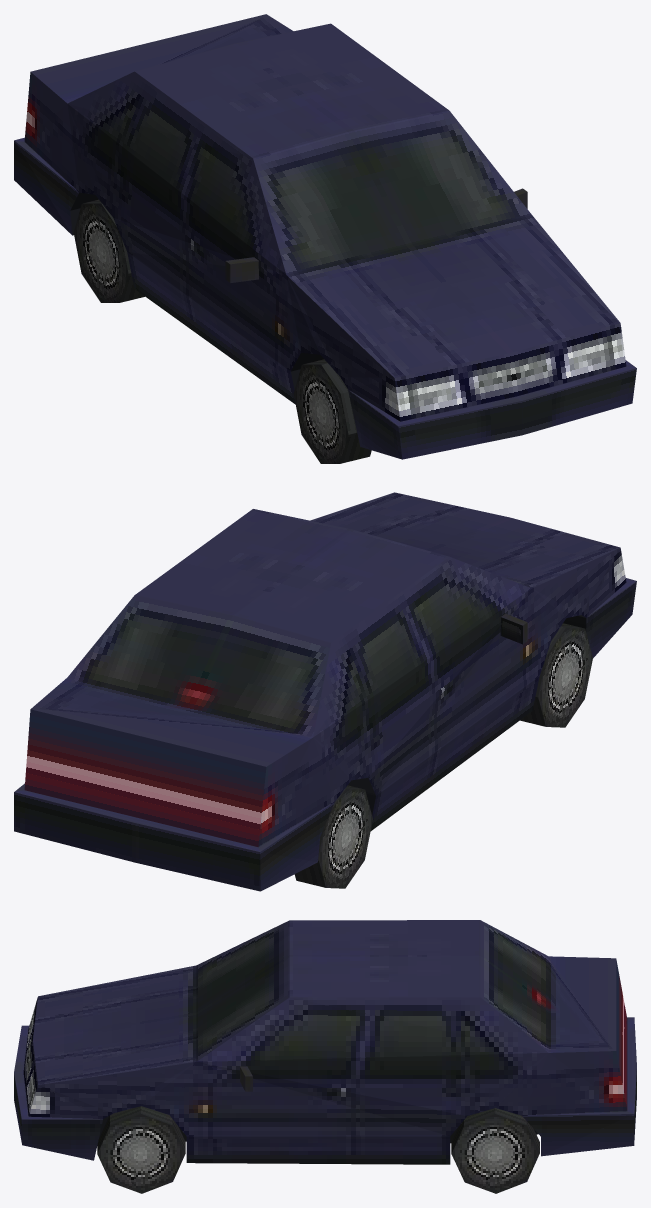
Rendered from car2.glb.
3 views of the same model, one above another, from view 1: azimuth 30°, elevation 25°; view 2: azimuth 150°, elevation 25°; view 3: azimuth 270°, elevation 25° (orthographic). The views are drawn at different scales.
Visible parts, largest first — view 1: Car2; view 2: Car2; view 3: Car2.
Part boxes in pixels (x1=…): Car2: x1=14, y1=14, x2=636, y2=463; Car2: x1=14, y1=492, x2=636, y2=891; Car2: x1=14, y1=920, x2=636, y2=1193.
Size of the model in its own units: 2.9 by 2.2 by 6.53.
Materials: 1 (1 with a texture image).
